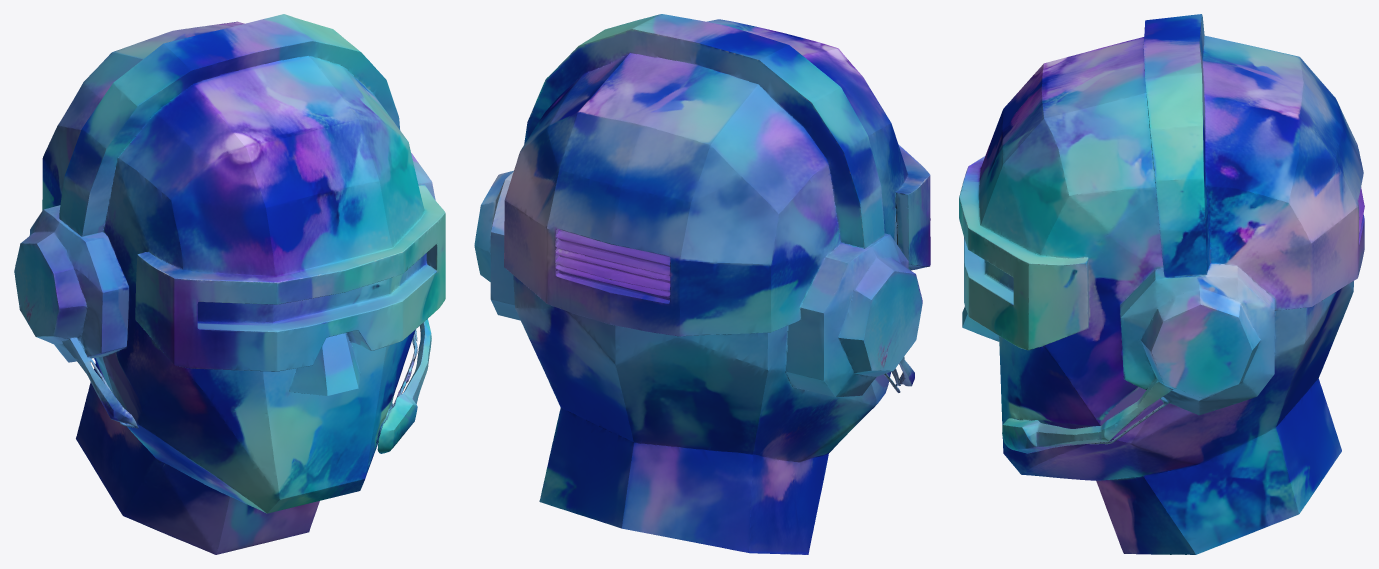
Rendered from base_basic_pbr.glb.
The picture shows the model from 3 angles, left to right: view 1: azimuth 30°, elevation 25°; view 2: azimuth 150°, elevation 25°; view 3: azimuth 270°, elevation 25°; orthographic projection. The views are drawn at different scales.
Visible parts, largest first — view 1: model; view 2: model; view 3: model.
Part boxes in pixels (<box>): model: <box>14,14,445,554</box>; model: <box>474,14,930,554</box>; model: <box>959,14,1364,554</box>.
Bounding box in the file's own units: 1.55 × 1.9 × 1.43.
Materials: 1 (1 with a texture image).
